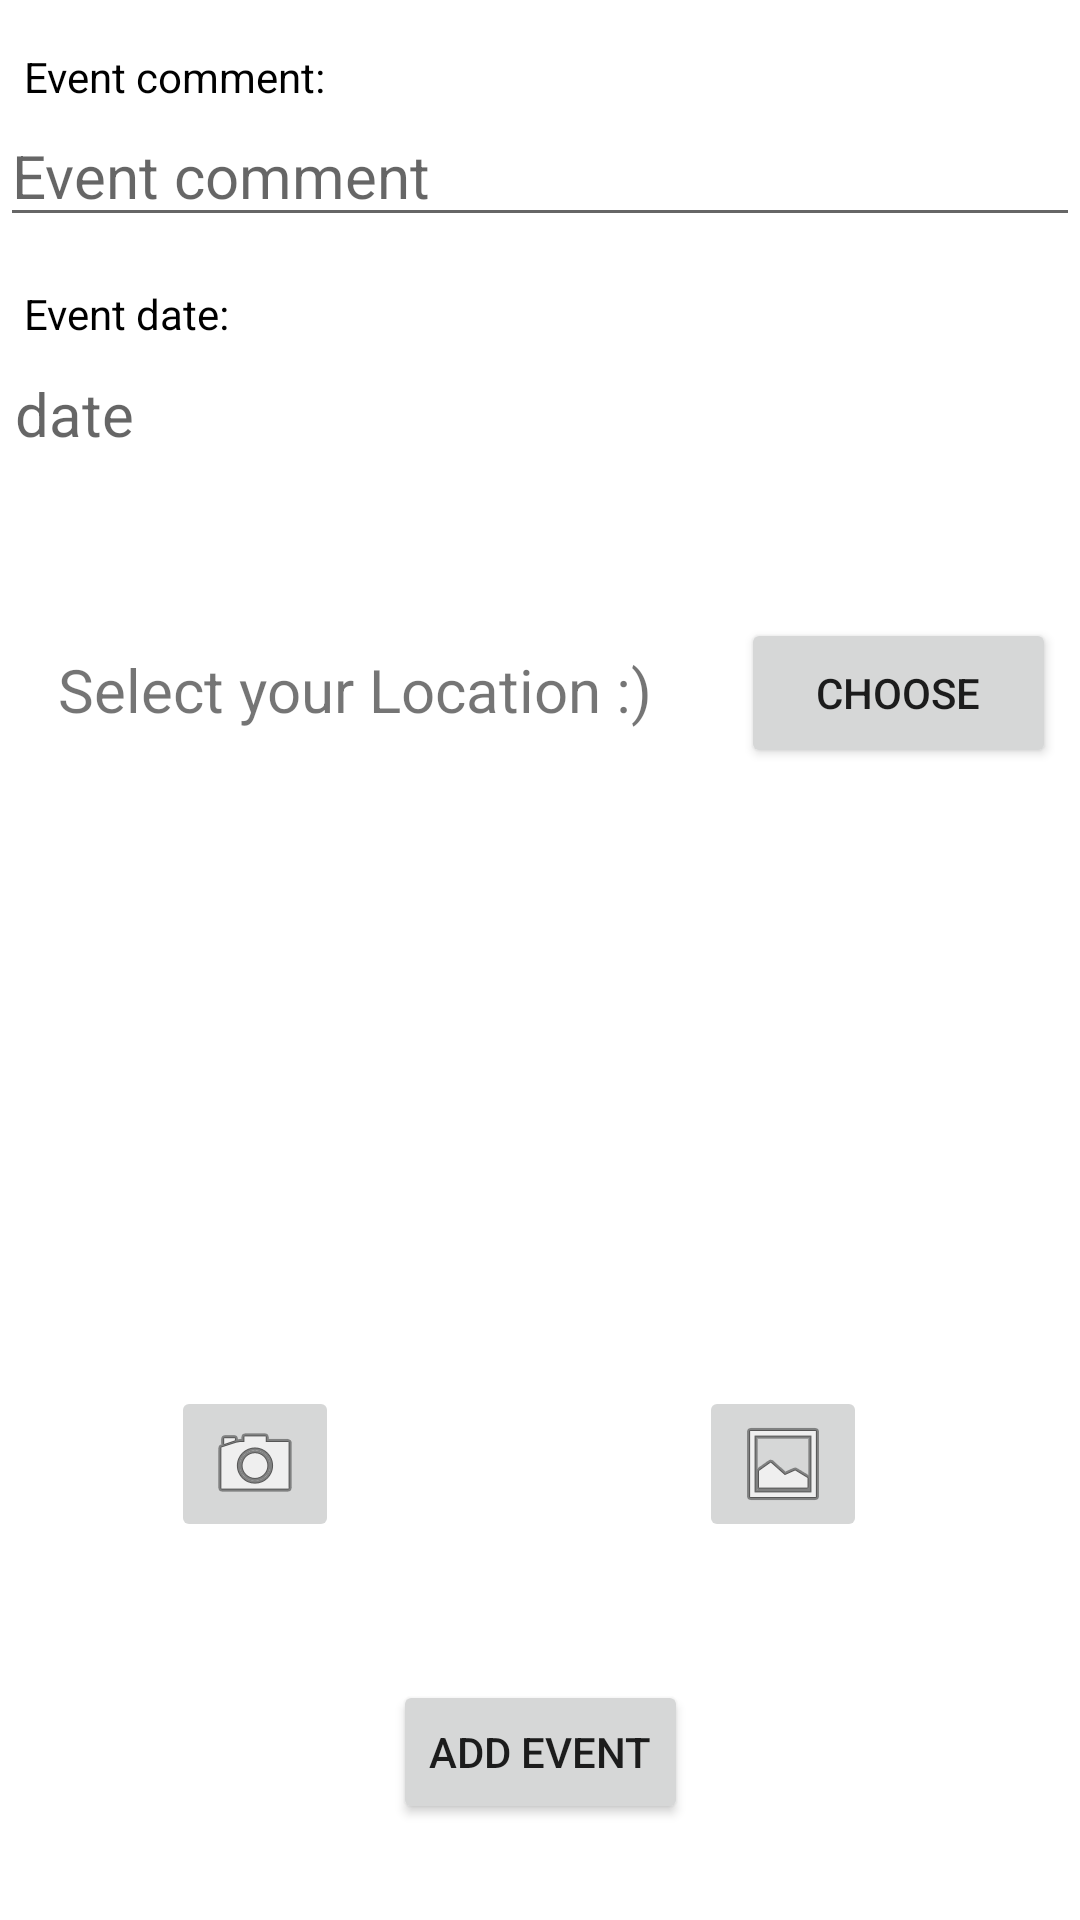

Icons on this 1080w x 1920h Android screen, each with the point to tap as (x=x, y=y):
camera: (x=255, y=1464)
gallery: (x=783, y=1464)
